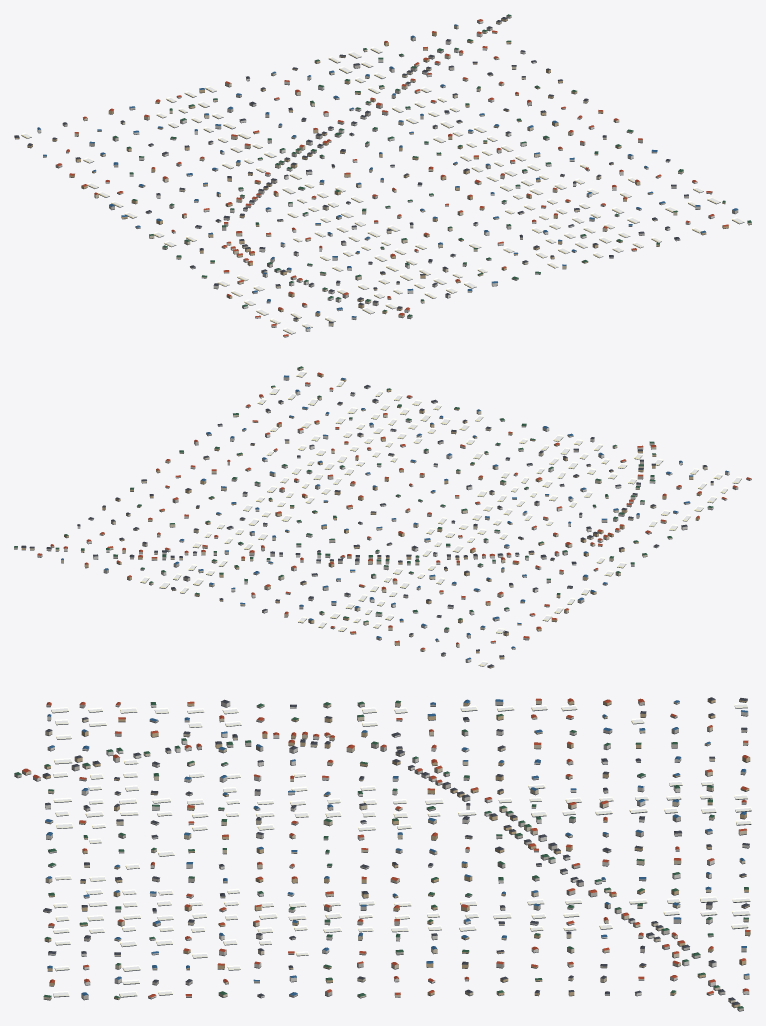
Rendered from buildings_T_W02_S05.glb.
The picture shows the model from 3 angles, top to bottom: view 1: azimuth 30°, elevation 25°; view 2: azimuth 150°, elevation 25°; view 3: azimuth 270°, elevation 25°; orthographic projection. The views are drawn at different scales.
Visible parts, largest first — view 1: T_W02_S05_slope_seating_foundations, T_W02_S05_roofs_agri_greenhouse_arch, T_W02_S05_walls_wall_french_ochre_villa, T_W02_S05_walls_wall_modern_warm_white, T_W02_S05_walls_wall_dalat_cream_stucco, T_W02_S05_walls_wall_pastel_sand_gray, T_W02_S05_roofs_roof_slate_French_villa_hip, T_W02_S05_roofs_roof_terracotta_gable, T_W02_S05_roofs_roof_pine_green_hip, T_W02_S05_roofs_roof_highland_blue_gable; view 2: T_W02_S05_slope_seating_foundations, T_W02_S05_roofs_agri_greenhouse_arch, T_W02_S05_walls_wall_french_ochre_villa, T_W02_S05_walls_wall_modern_warm_white, T_W02_S05_walls_wall_dalat_cream_stucco, T_W02_S05_roofs_roof_slate_French_villa_hip, T_W02_S05_roofs_roof_terracotta_gable, T_W02_S05_walls_wall_pastel_sand_gray, T_W02_S05_roofs_roof_pine_green_hip, T_W02_S05_roofs_roof_highland_blue_gable; view 3: T_W02_S05_slope_seating_foundations, T_W02_S05_roofs_agri_greenhouse_arch, T_W02_S05_walls_wall_french_ochre_villa, T_W02_S05_walls_wall_dalat_cream_stucco, T_W02_S05_walls_wall_modern_warm_white, T_W02_S05_walls_wall_pastel_sand_gray, T_W02_S05_roofs_roof_slate_French_villa_hip, T_W02_S05_roofs_roof_terracotta_gable, T_W02_S05_roofs_roof_pine_green_hip, T_W02_S05_roofs_roof_highland_blue_gable.
Part boxes in pixels (left/top/right/bottom): T_W02_S05_slope_seating_foundations: left=15, top=17, right=751, bottom=337; T_W02_S05_roofs_agri_greenhouse_arch: left=21, top=46, right=744, bottom=333; T_W02_S05_walls_wall_french_ochre_villa: left=14, top=18, right=728, bottom=316; T_W02_S05_walls_wall_modern_warm_white: left=37, top=20, right=714, bottom=331; T_W02_S05_walls_wall_dalat_cream_stucco: left=43, top=21, right=751, bottom=325; T_W02_S05_walls_wall_pastel_sand_gray: left=55, top=15, right=738, bottom=337; T_W02_S05_roofs_roof_slate_French_villa_hip: left=14, top=17, right=688, bottom=323; T_W02_S05_roofs_roof_terracotta_gable: left=56, top=19, right=728, bottom=336; T_W02_S05_roofs_roof_pine_green_hip: left=113, top=14, right=751, bottom=316; T_W02_S05_roofs_roof_highland_blue_gable: left=37, top=24, right=738, bottom=328; T_W02_S05_slope_seating_foundations: left=14, top=369, right=751, bottom=668; T_W02_S05_roofs_agri_greenhouse_arch: left=140, top=370, right=741, bottom=666; T_W02_S05_walls_wall_french_ochre_villa: left=21, top=374, right=701, bottom=668; T_W02_S05_walls_wall_modern_warm_white: left=37, top=383, right=729, bottom=662; T_W02_S05_walls_wall_dalat_cream_stucco: left=30, top=367, right=713, bottom=651; T_W02_S05_roofs_roof_slate_French_villa_hip: left=21, top=385, right=713, bottom=667; T_W02_S05_roofs_roof_terracotta_gable: left=37, top=372, right=750, bottom=649; T_W02_S05_walls_wall_pastel_sand_gray: left=14, top=376, right=751, bottom=656; T_W02_S05_roofs_roof_pine_green_hip: left=14, top=366, right=713, bottom=629; T_W02_S05_roofs_roof_highland_blue_gable: left=61, top=375, right=728, bottom=659; T_W02_S05_slope_seating_foundations: left=14, top=700, right=751, bottom=1011; T_W02_S05_roofs_agri_greenhouse_arch: left=51, top=703, right=751, bottom=996; T_W02_S05_walls_wall_french_ochre_villa: left=42, top=699, right=750, bottom=1007; T_W02_S05_walls_wall_dalat_cream_stucco: left=22, top=699, right=749, bottom=1002; T_W02_S05_walls_wall_modern_warm_white: left=33, top=702, right=749, bottom=998; T_W02_S05_walls_wall_pastel_sand_gray: left=14, top=700, right=747, bottom=1010; T_W02_S05_roofs_roof_slate_French_villa_hip: left=43, top=697, right=749, bottom=1005; T_W02_S05_roofs_roof_terracotta_gable: left=22, top=698, right=750, bottom=997; T_W02_S05_roofs_roof_pine_green_hip: left=14, top=700, right=748, bottom=1008; T_W02_S05_roofs_roof_highland_blue_gable: left=45, top=699, right=749, bottom=995.
Bounding box in the file's own units: 1841 × 32.28 × 1826.
